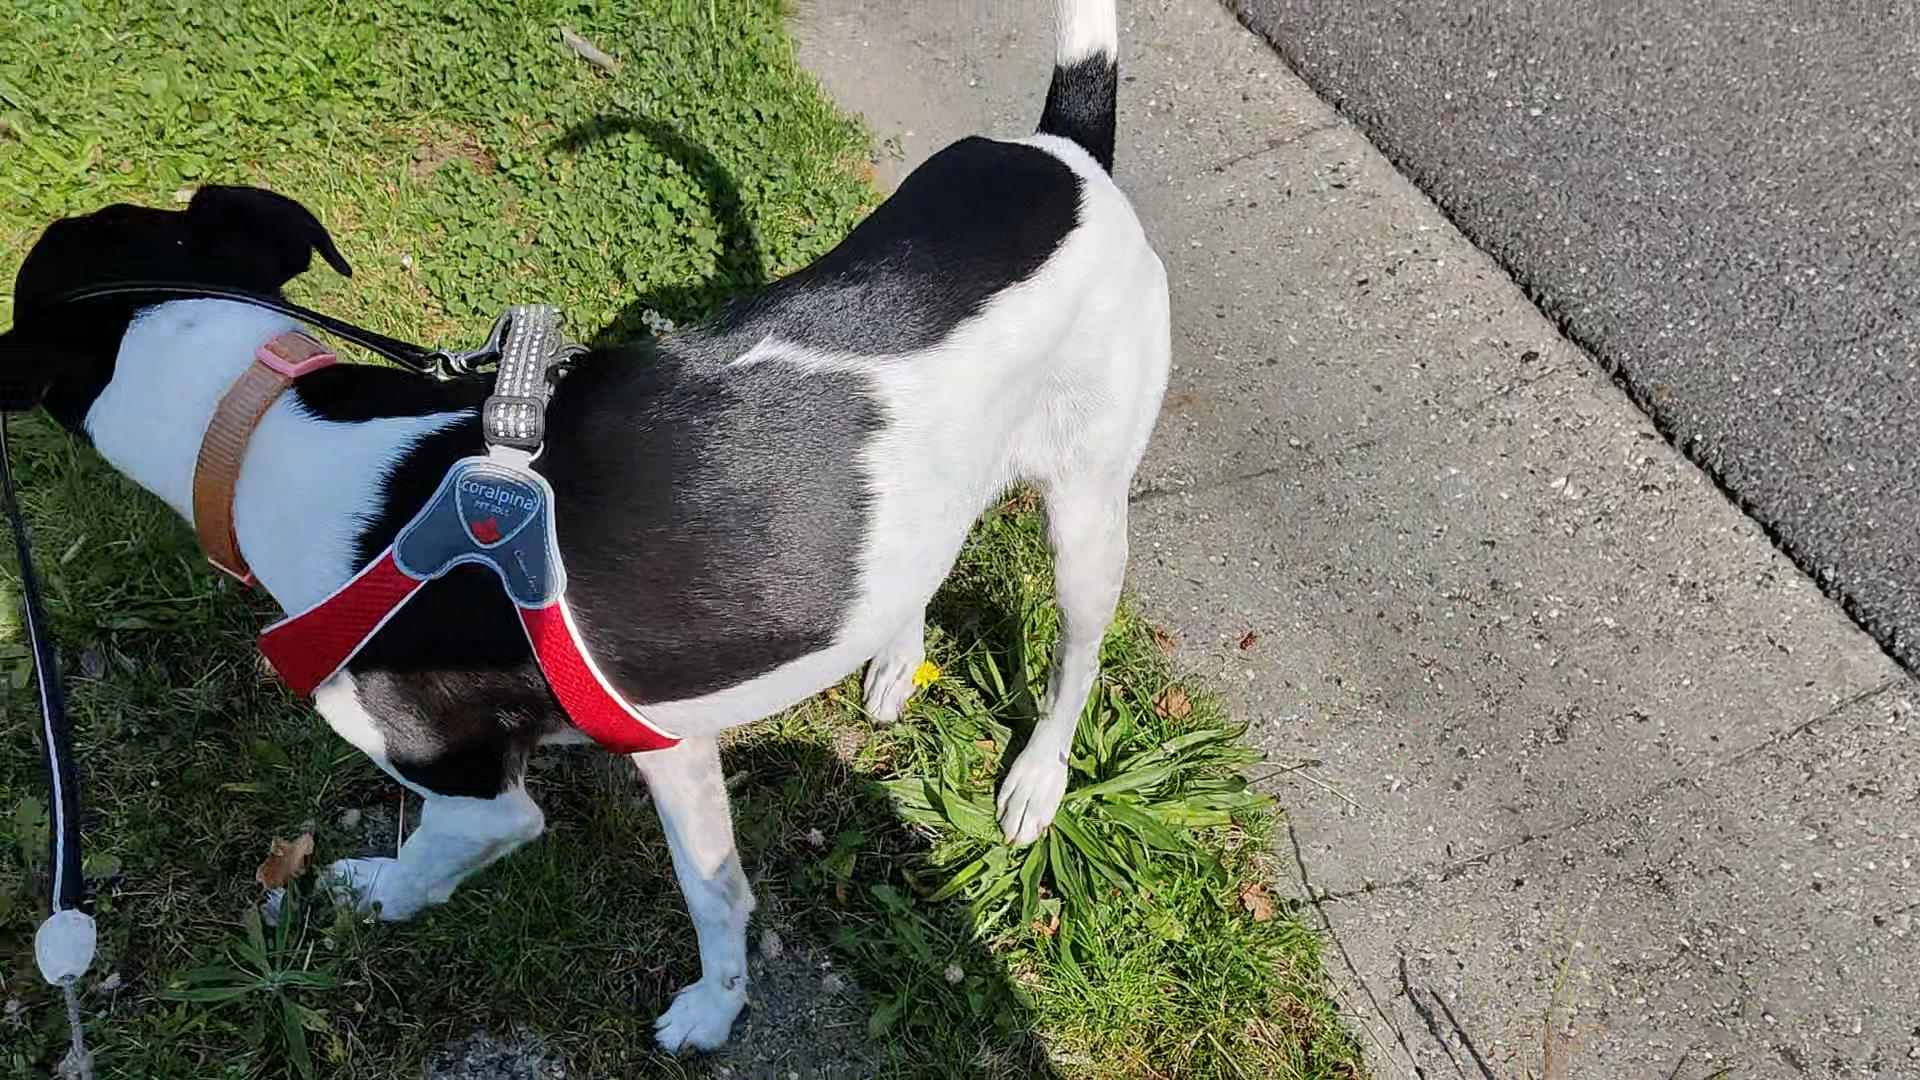Dog: (0, 0, 1187, 1065)
